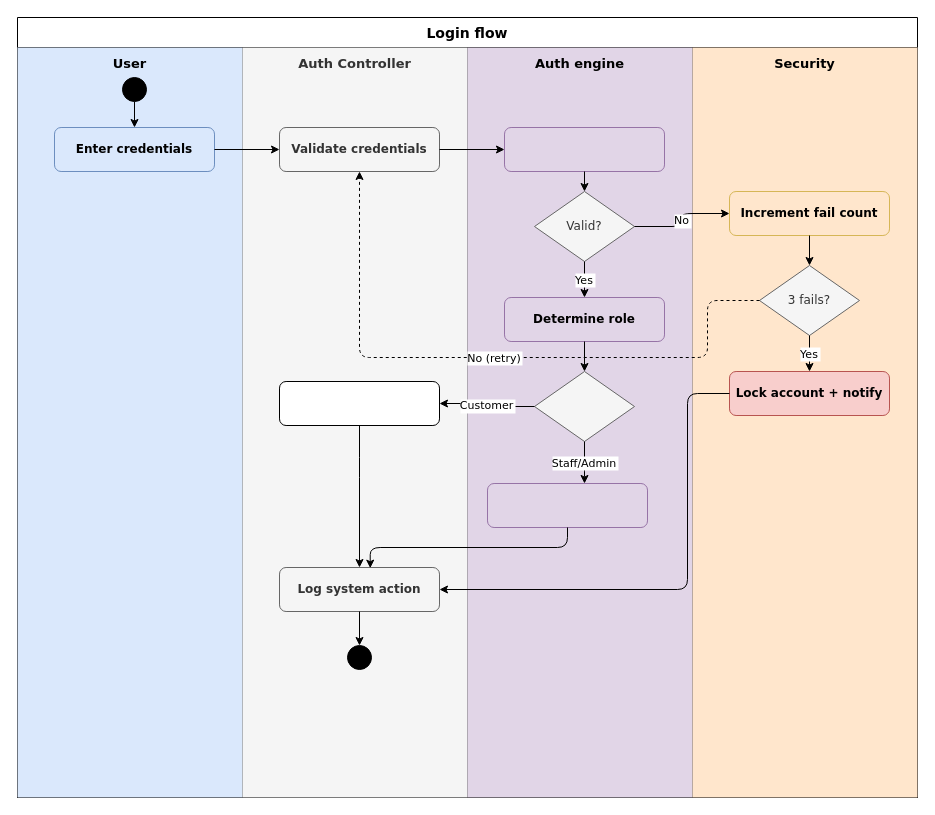
Image size: 935x815. Some labels were removed from this diagram. Each missing label, with the box of its shape:
Check credentials: (504, 126, 664, 172)
Customer dashboard: (278, 380, 440, 426)
Role?: (534, 370, 634, 442)
Staff portal + perms: (486, 482, 648, 528)
